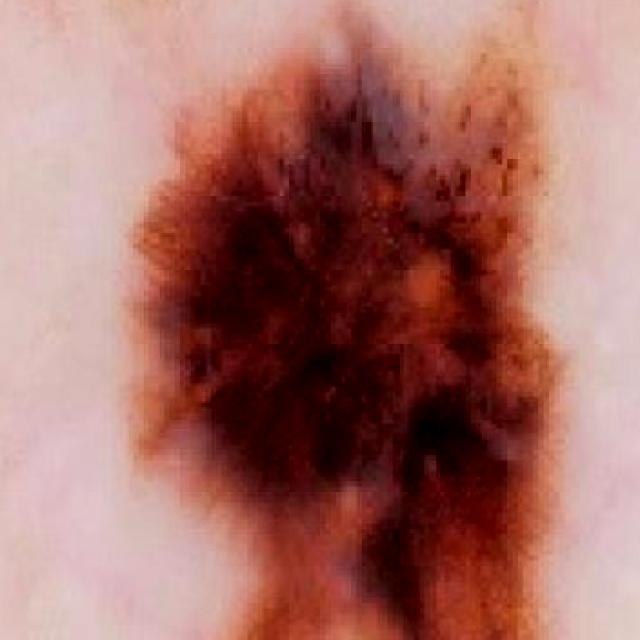MEL: (85, 0, 608, 640)
